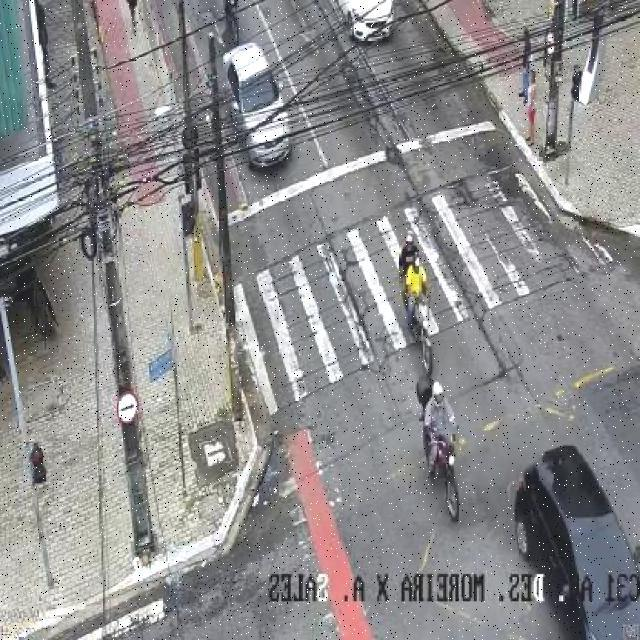Car: (518, 441, 640, 640), (220, 46, 297, 180)
Cycle: (415, 360, 467, 530), (398, 226, 452, 368)
